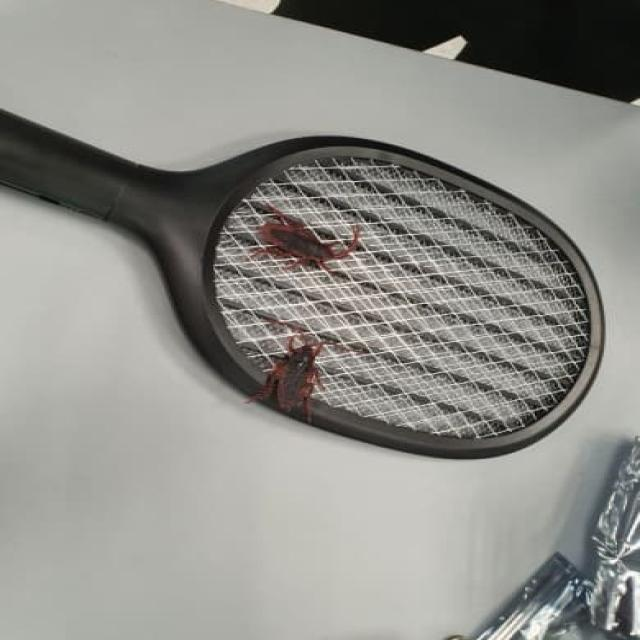Cockroach: (246, 191, 368, 273), (236, 326, 332, 419)
